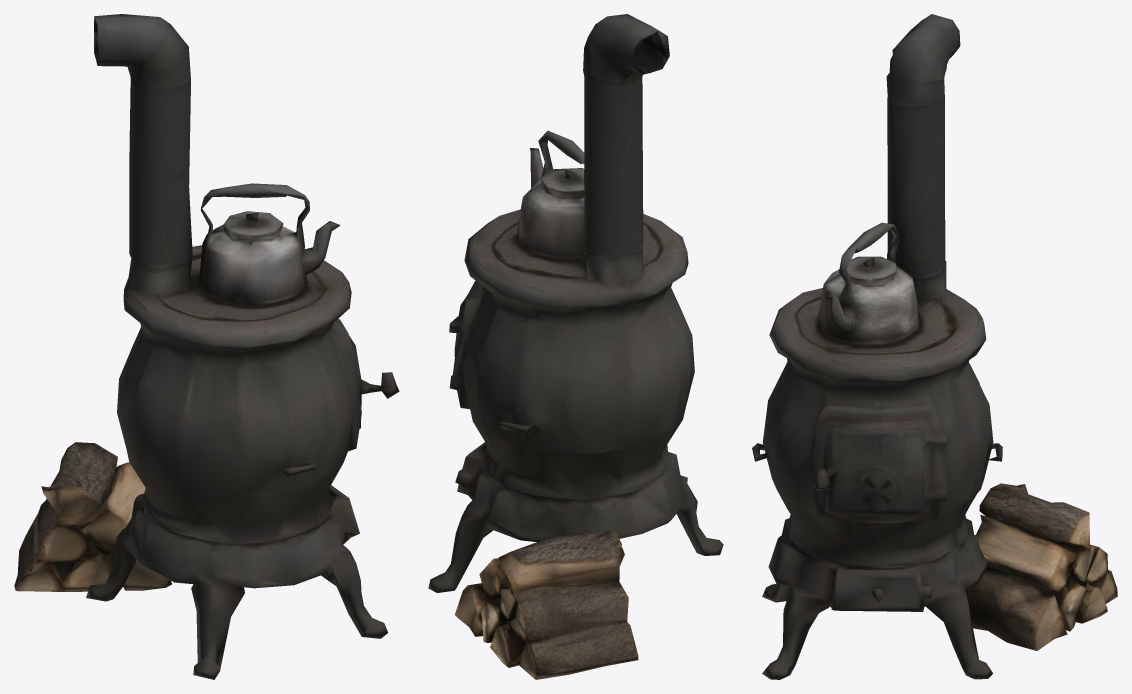
The model's file is prop_stove.glb.
The picture shows the model from 3 angles, left to right: view 1: azimuth 30°, elevation 25°; view 2: azimuth 150°, elevation 25°; view 3: azimuth 270°, elevation 25°; orthographic projection. The views are drawn at different scales.
Visible parts, largest first — view 1: tripo_node_36cee608-00cc-4a91-8ae1-41775df962a7; view 2: tripo_node_36cee608-00cc-4a91-8ae1-41775df962a7; view 3: tripo_node_36cee608-00cc-4a91-8ae1-41775df962a7.
Boxes of the visible parts, x1,y1,x2,y2 form: tripo_node_36cee608-00cc-4a91-8ae1-41775df962a7: (14, 14, 399, 679); tripo_node_36cee608-00cc-4a91-8ae1-41775df962a7: (428, 14, 723, 679); tripo_node_36cee608-00cc-4a91-8ae1-41775df962a7: (752, 14, 1117, 679).
Bounding box in the file's own units: 0.4769 × 0.9999 × 0.58.
Materials: 1 (1 with a texture image).
